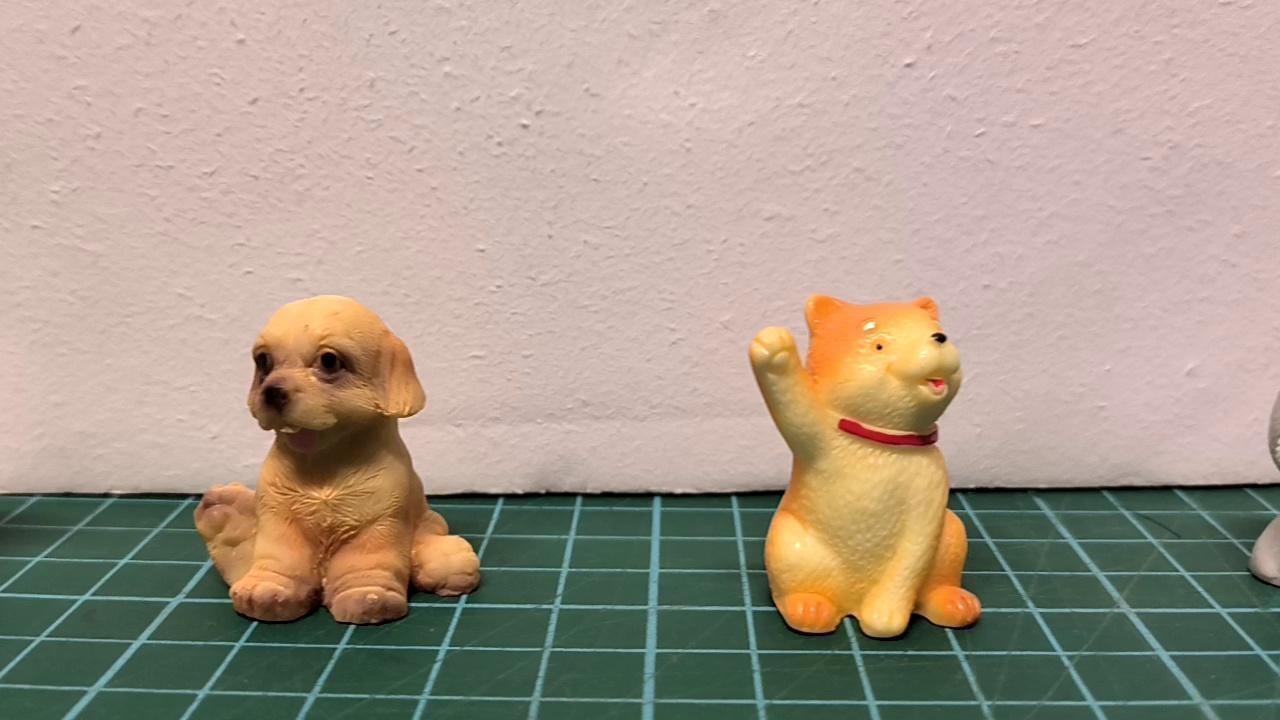pet: (193, 289, 487, 627), (744, 289, 987, 638)
